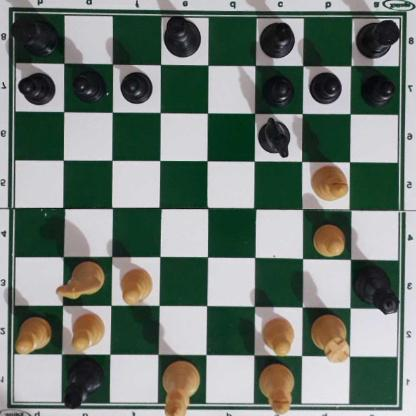black-bishop: (64, 357, 105, 411), (258, 22, 299, 59)
black-king: (162, 14, 204, 57)
black-knight: (257, 115, 293, 158)
black-pawn: (20, 69, 57, 105), (72, 68, 106, 101), (362, 72, 396, 104), (121, 68, 153, 102), (312, 70, 343, 104), (264, 71, 295, 105)
black-queen: (353, 264, 399, 317)
black-rook: (356, 15, 404, 58), (11, 13, 58, 55)
white-bishop: (259, 360, 294, 414), (310, 164, 350, 203)
white-king: (162, 359, 201, 416)
white-knight: (56, 260, 107, 299)
white-pawn: (71, 310, 108, 352), (14, 315, 53, 354), (262, 315, 296, 355), (312, 223, 348, 258), (121, 266, 154, 304)
white-rook: (310, 310, 353, 363)
